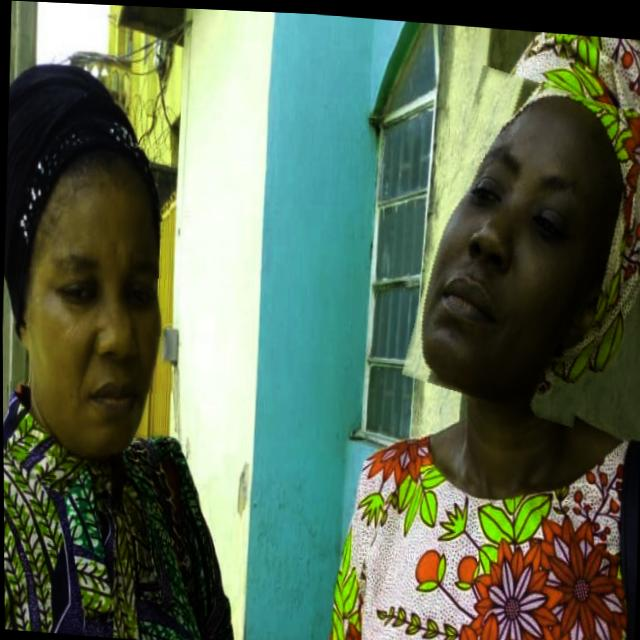sad: (414, 64, 638, 418), (5, 135, 172, 465)
